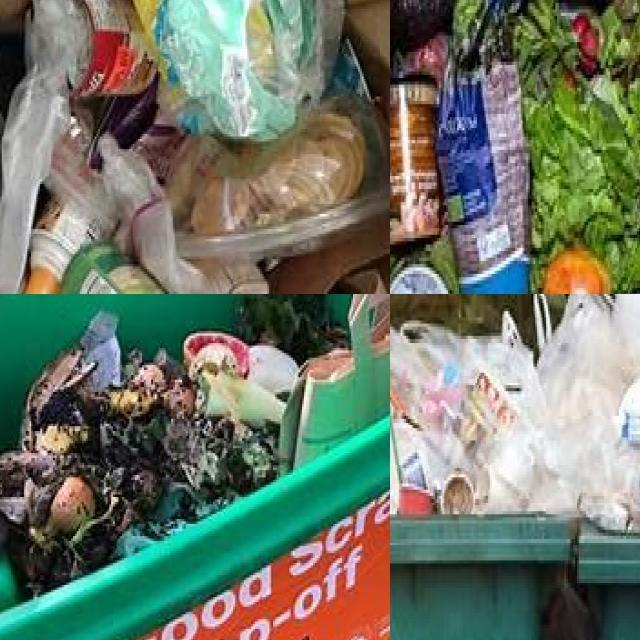Garbage: (0, 294, 390, 612), (390, 0, 640, 294), (390, 294, 640, 533)
Plastic: (81, 310, 120, 393)
Plastic_Bag: (390, 294, 640, 528), (168, 97, 390, 260), (134, 0, 345, 140), (98, 133, 269, 294), (281, 294, 390, 471), (0, 67, 69, 294), (236, 294, 349, 364), (248, 345, 299, 395)
Plastic_Container: (438, 63, 529, 294), (390, 73, 440, 247), (23, 197, 100, 294), (390, 265, 448, 294)
Plastic_wraper: (449, 0, 526, 74)
tin_box: (25, 0, 155, 96), (61, 242, 166, 294)
